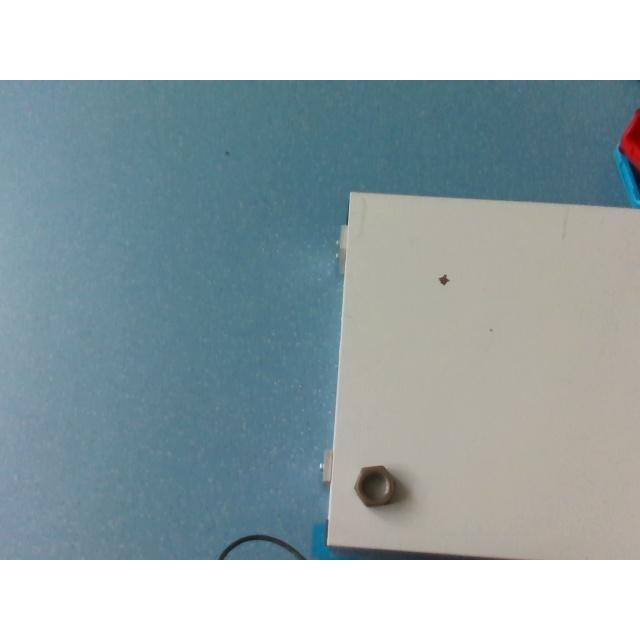M30: (353, 465, 395, 507)
